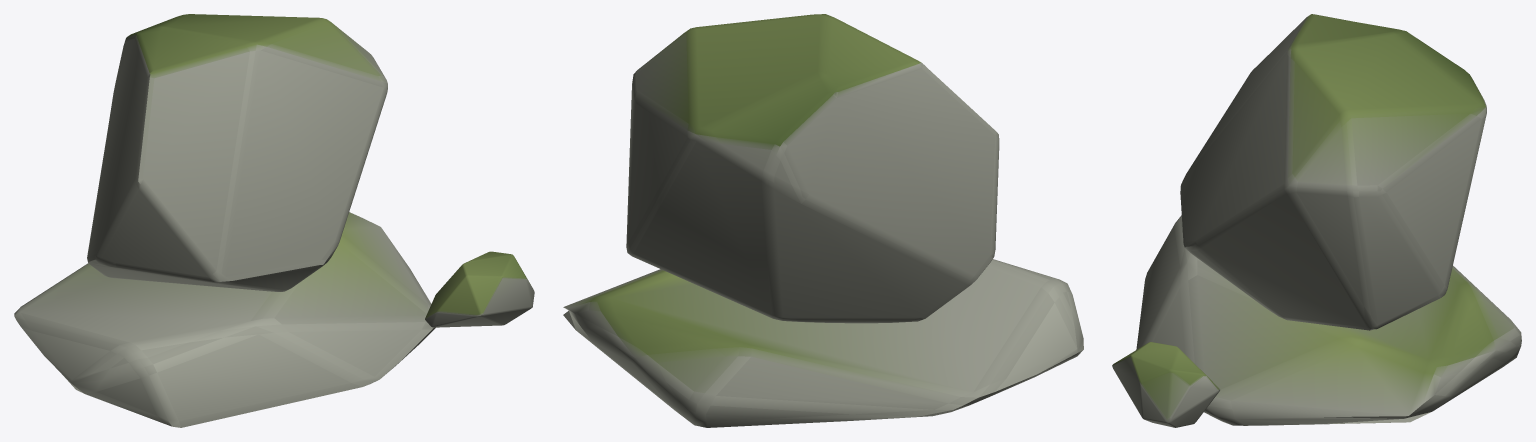
File: moss-boulder-a.glb
The picture shows the model from 3 angles, left to right: view 1: azimuth 30°, elevation 25°; view 2: azimuth 150°, elevation 25°; view 3: azimuth 270°, elevation 25°; orthographic projection. The views are drawn at different scales.
Parts seen in each view (by area): view 1: moss-boulder-a; view 2: moss-boulder-a; view 3: moss-boulder-a.
Boxes of the visible parts, x1,y1,x2,y2 form: moss-boulder-a: (14, 14, 534, 427); moss-boulder-a: (563, 14, 1083, 427); moss-boulder-a: (1112, 14, 1521, 427).
Bounding box in the file's own units: 1.42 × 0.9551 × 1.16.
